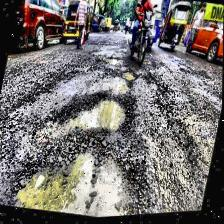pothole: (16, 128, 142, 222), (71, 86, 132, 141), (106, 62, 142, 96)
